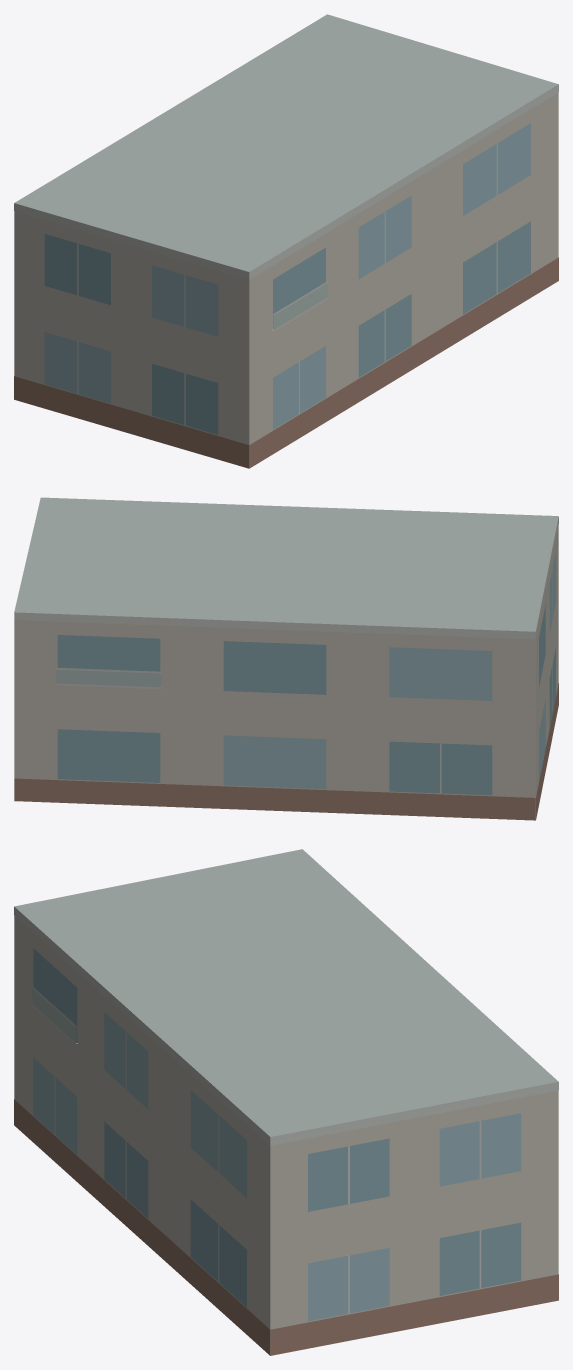
Rendered from survey-upis-32705596.glb.
3 renders of one model, top to bottom at view 1: azimuth 30°, elevation 25°; view 2: azimuth 150°, elevation 25°; view 3: azimuth 270°, elevation 25°, orthographic. The views are drawn at different scales.
Visible parts, largest first — view 1: survey-upis-32705596.tmp; view 2: survey-upis-32705596.tmp; view 3: survey-upis-32705596.tmp.
Boxes of the visible parts, <box> form: survey-upis-32705596.tmp: <box>14,14,558,468</box>; survey-upis-32705596.tmp: <box>14,497,558,820</box>; survey-upis-32705596.tmp: <box>14,849,558,1355</box>.
Size of the model in its own units: 17.23 by 6.1 by 13.77.
